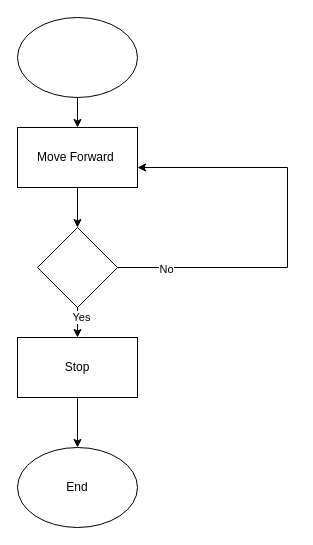
This 313x545 diagram has some shape labels left out. Each missing label, with the box of its shape:
Is the touch sensor pressed ?: (36, 226, 118, 308)
Start: (16, 16, 138, 98)
